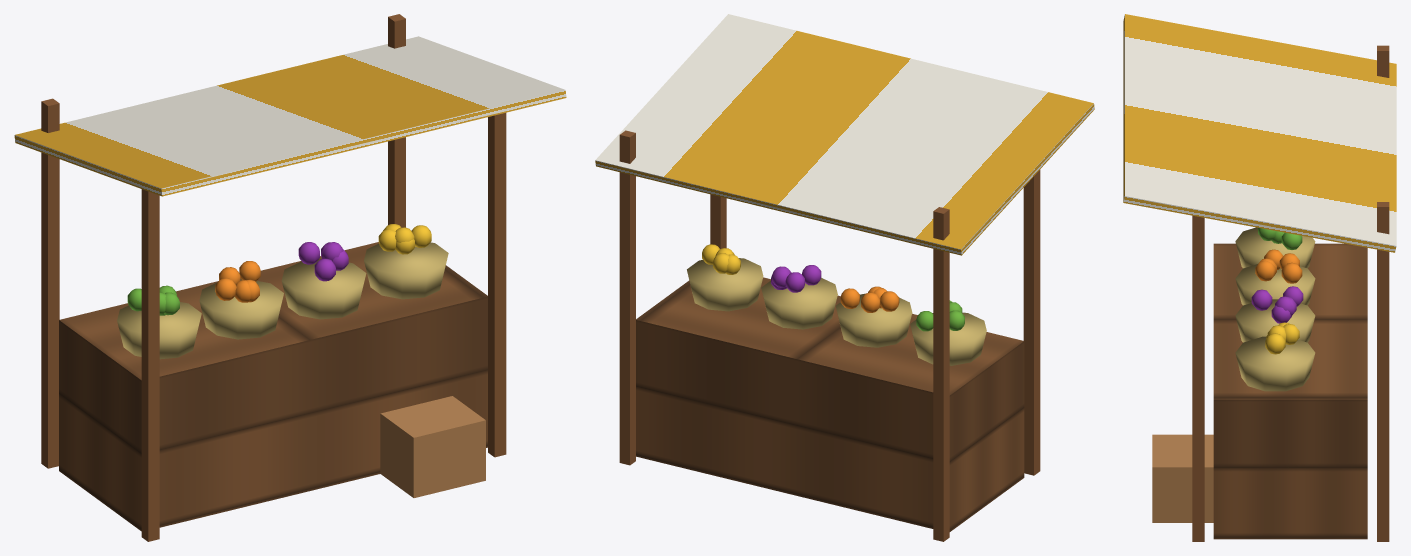
File: prop_kios_c.glb
The picture shows the model from 3 angles, left to right: view 1: azimuth 30°, elevation 25°; view 2: azimuth 150°, elevation 25°; view 3: azimuth 270°, elevation 25°; orthographic projection. The views are drawn at different scales.
Visible parts, largest first — view 1: kios_c; view 2: kios_c; view 3: kios_c.
Boxes of the visible parts, x1=… form: kios_c: x1=14, y1=14, x2=566, y2=541; kios_c: x1=595, y1=14, x2=1094, y2=541; kios_c: x1=1123, y1=14, x2=1396, y2=541.
Bounding box in the file's own units: 2.8 × 2.55 × 1.77.
9 materials, 2 textured.
